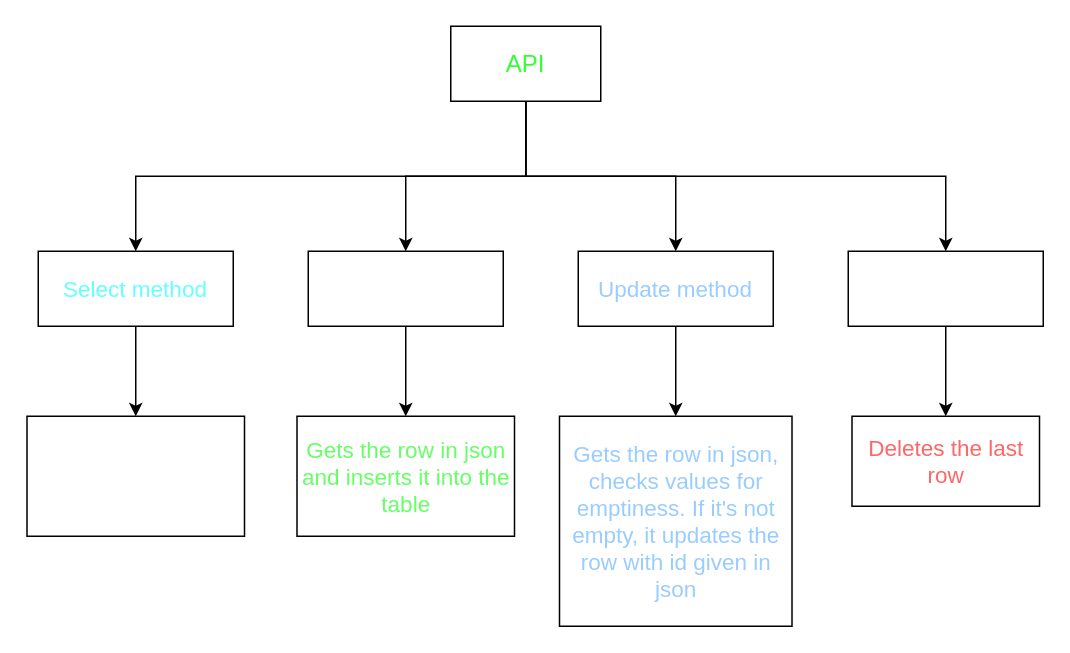
Image size: 1070x653. Some labels were removed from this diagram. Here are the shapes that lost their labels. From the top down, the centre of each, then its label:
At [405,288]: "Insert method".
At [945,288]: "Delete method".
At [135,475]: "Returns json string with all the rows of table".
